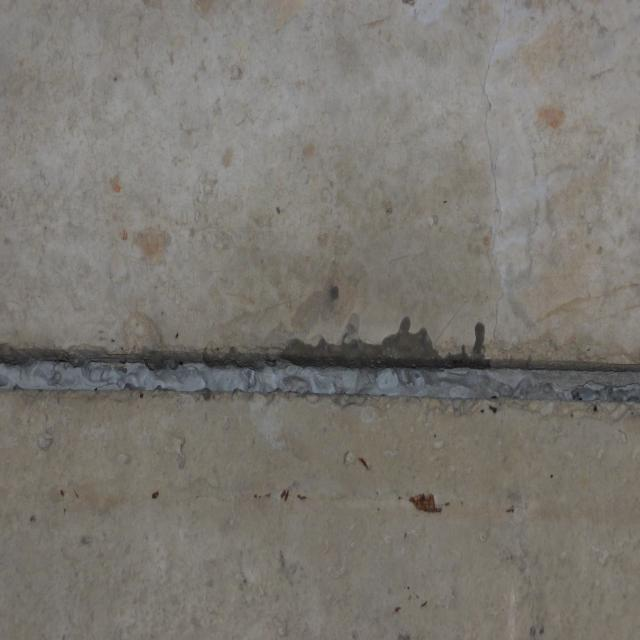corrosion: (354, 452, 451, 618), (242, 481, 308, 511), (150, 484, 162, 504)
